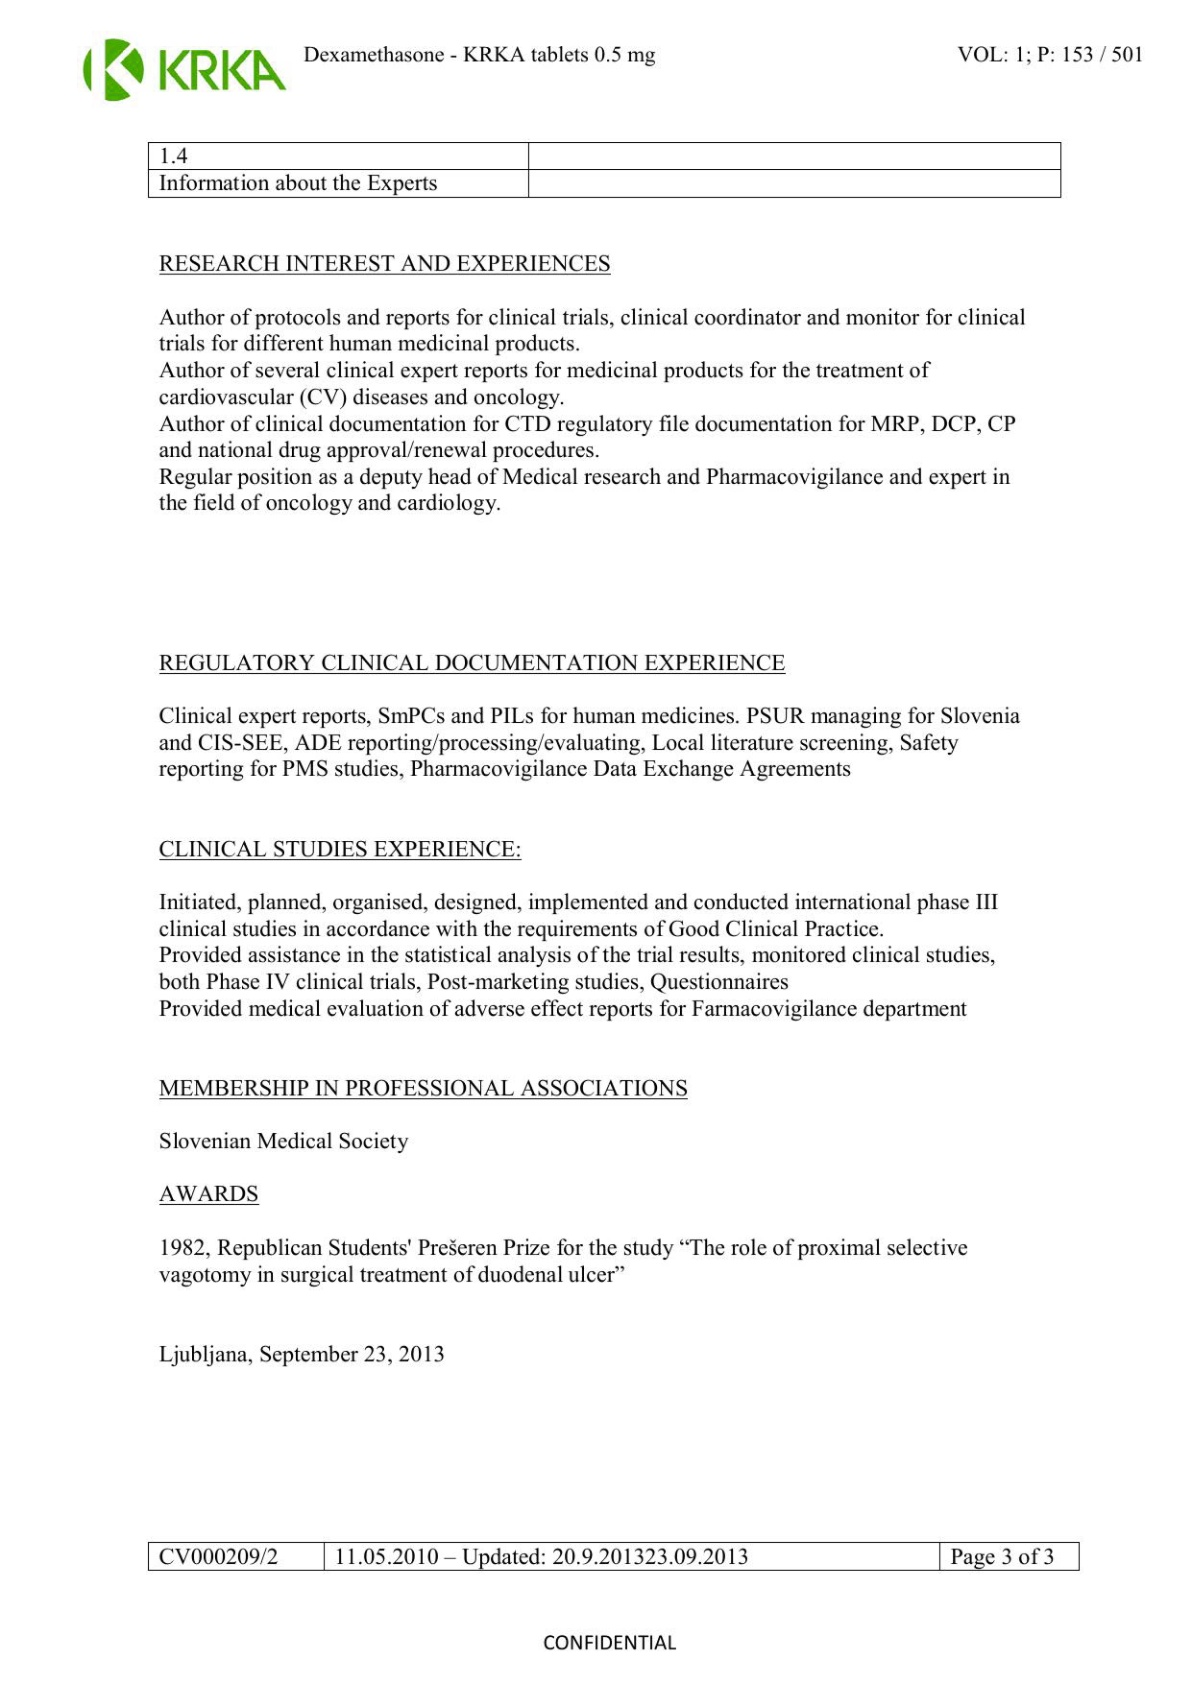full_lined: (148, 142, 1062, 199), (148, 1542, 1080, 1571)
